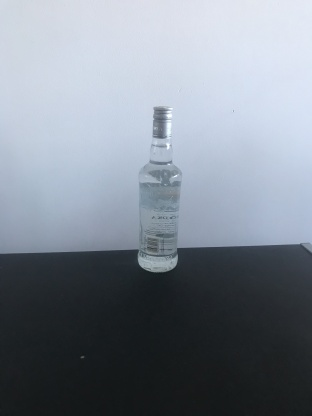nakretka: (151, 104, 174, 139)
